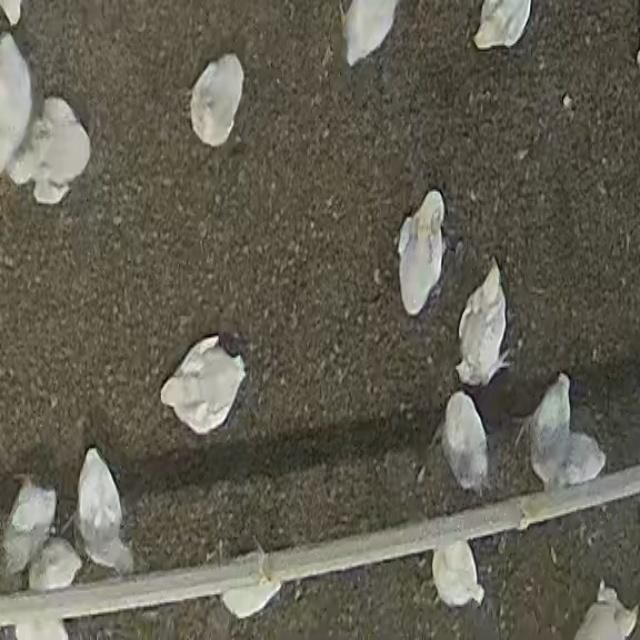chicken: (160, 335, 245, 435), (15, 97, 94, 204), (74, 447, 138, 577), (456, 262, 512, 388), (525, 373, 578, 502), (434, 391, 494, 498), (398, 189, 446, 317), (2, 472, 58, 579), (1, 32, 35, 179), (189, 54, 243, 146), (220, 544, 283, 620), (342, 1, 409, 67), (565, 580, 636, 640), (432, 539, 487, 609), (472, 0, 536, 51), (26, 536, 83, 593), (562, 432, 608, 499)
